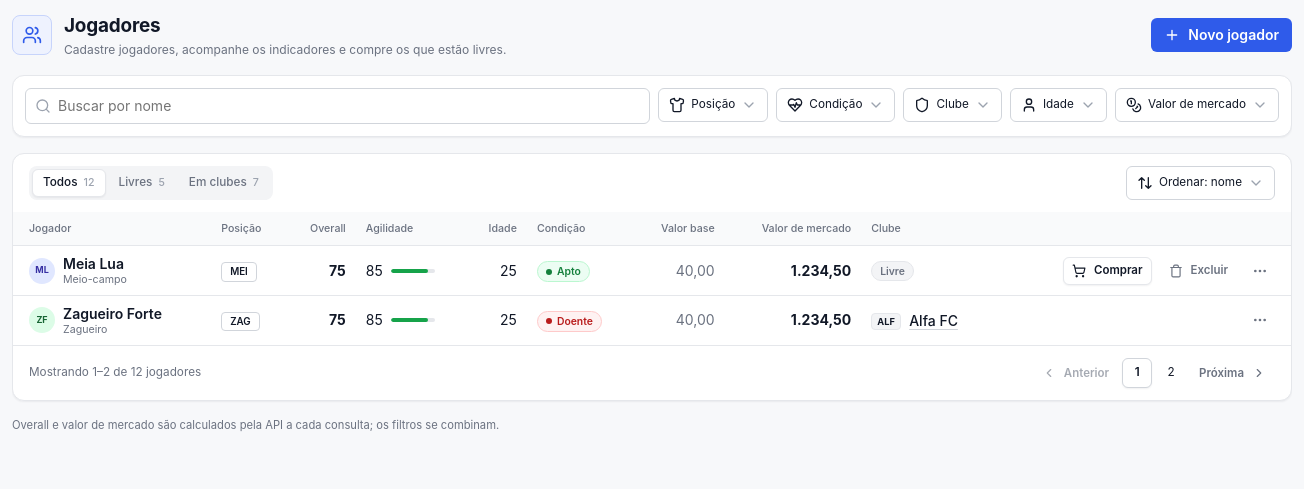
Test: PlayersPage list › prevents combining the free tab with the club filter, showing why
The width and height of the screenshot is (1304, 489).
Expected: the button "Meia Lua" is shown, x1=63 y1=255 x2=124 y2=273
Click the radio button labelled "Livres 5". click: (142, 183)
box: x1=108 y1=169 x2=176 y2=197
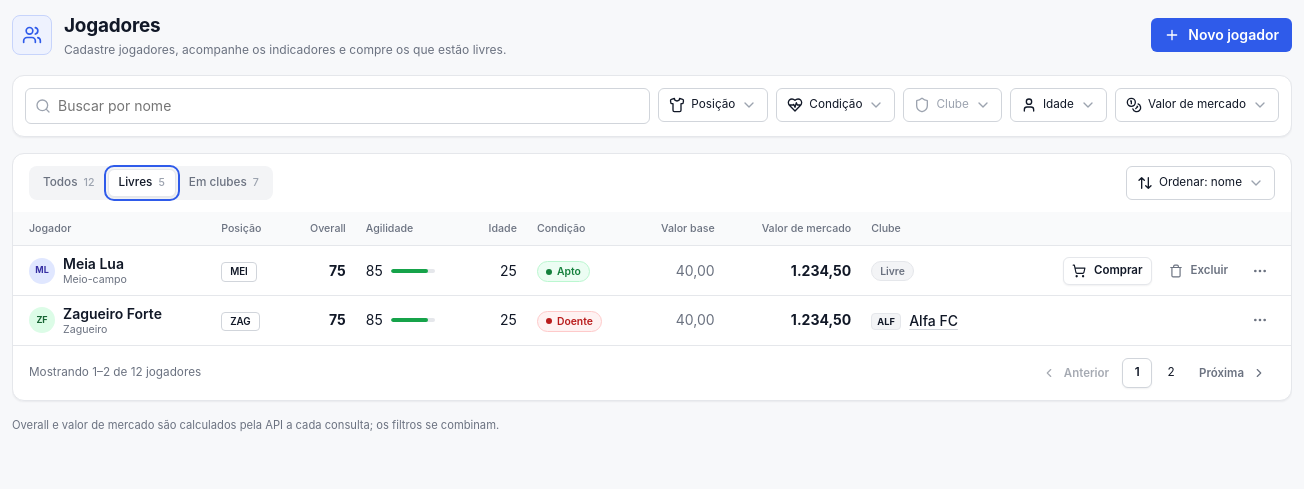
Now the button "Clube" is disabled, box x1=904 y1=88 x2=1002 y2=122
Click the radio button labelled "Todos 12". click: (69, 183)
box: x1=32 y1=169 x2=106 y2=197
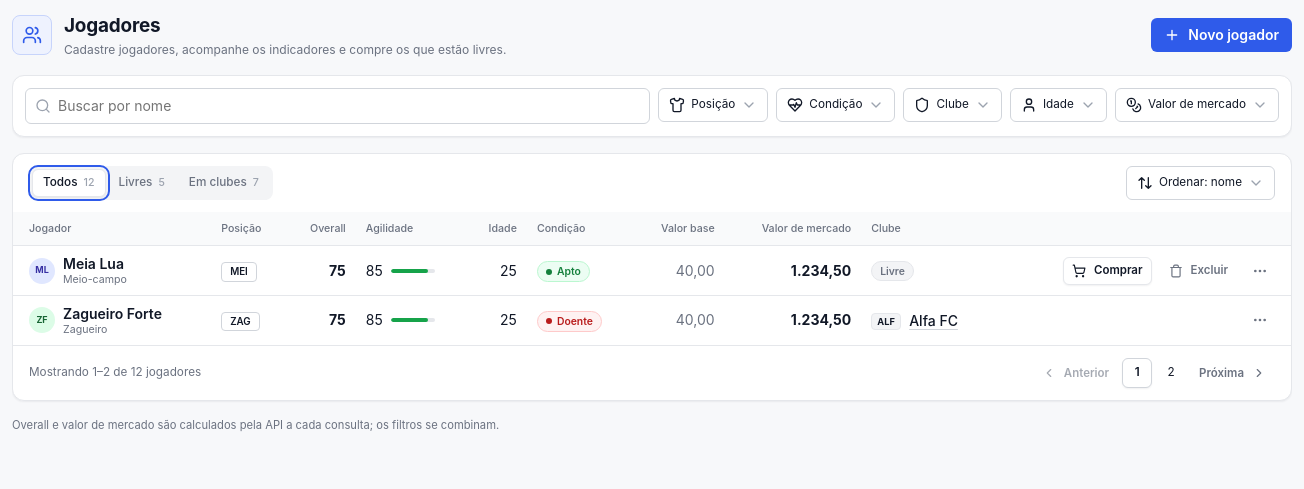
Click the button "Clube". click: (953, 105)
box: x1=904 y1=88 x2=1002 y2=122
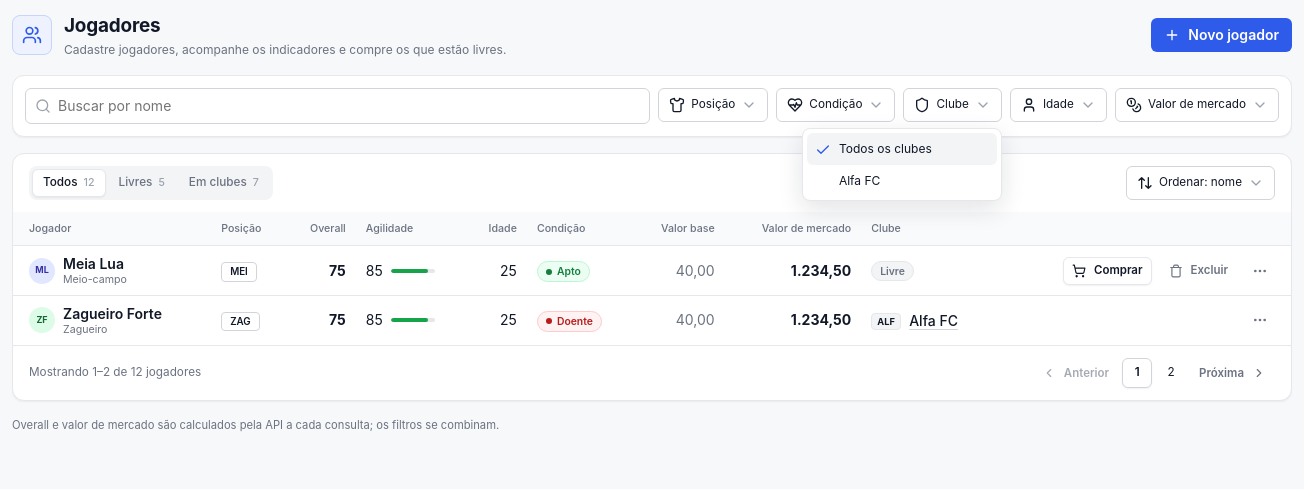
Click the menu item "Alfa FC". click: (902, 181)
box: x1=807 y1=165 x2=997 y2=196
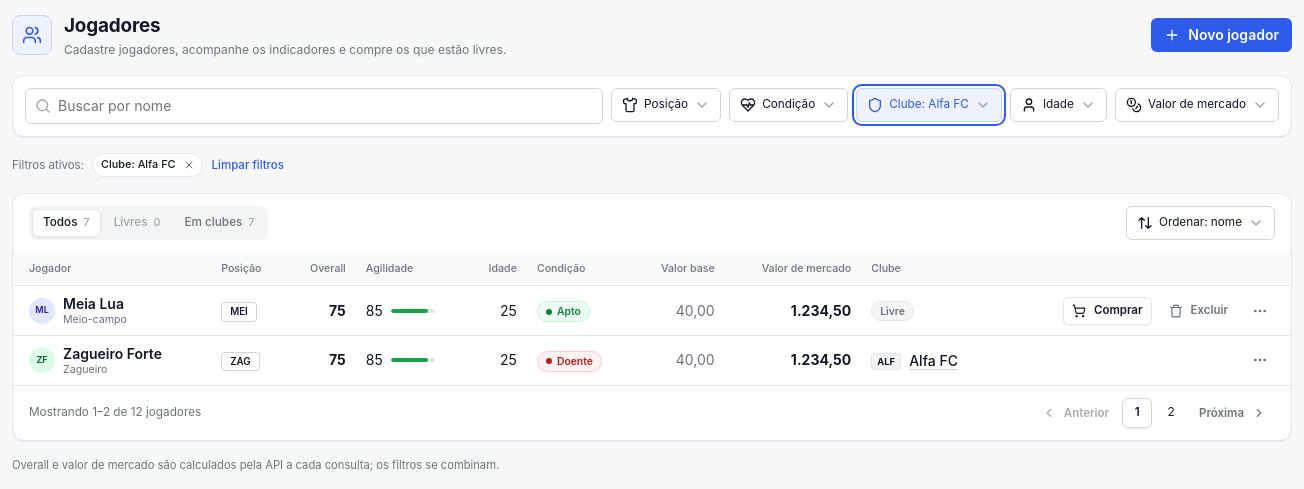
Now the radio button labelled "Livres 0" is disabled, box x1=103 y1=209 x2=171 y2=237
